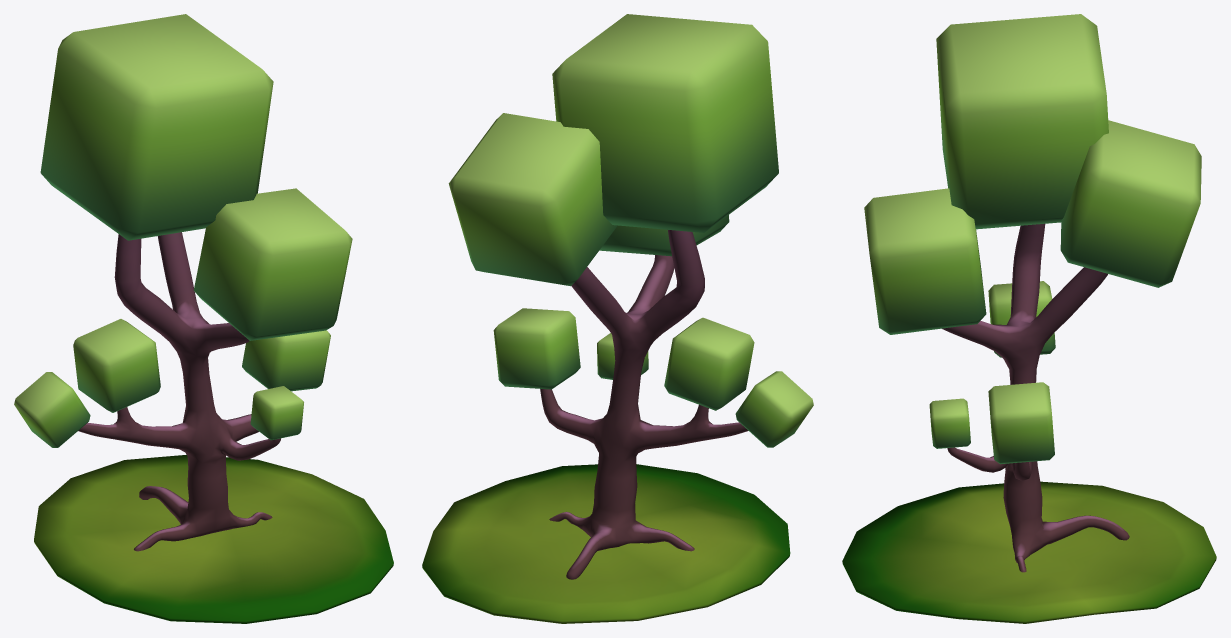
Rendered from TreeBark_03_Clean.fbx.
3 renders of one model, left to right at view 1: azimuth 30°, elevation 25°; view 2: azimuth 150°, elevation 25°; view 3: azimuth 270°, elevation 25°, orthographic. The views are drawn at different scales.
Visible parts, largest first — view 1: TreeBark_03_Clean, Tree_03_Ground_Baked; view 2: TreeBark_03_Clean, Tree_03_Ground_Baked; view 3: TreeBark_03_Clean, Tree_03_Ground_Baked.
Part boxes in pixels (box(x1,y1,x2,y2)): TreeBark_03_Clean: box(14, 14, 352, 551); Tree_03_Ground_Baked: box(34, 455, 393, 623); TreeBark_03_Clean: box(448, 14, 813, 579); Tree_03_Ground_Baked: box(422, 464, 790, 623); TreeBark_03_Clean: box(864, 14, 1201, 572); Tree_03_Ground_Baked: box(842, 481, 1216, 623).
Bounding box in the file's own units: 1207 × 1755 × 1203.
